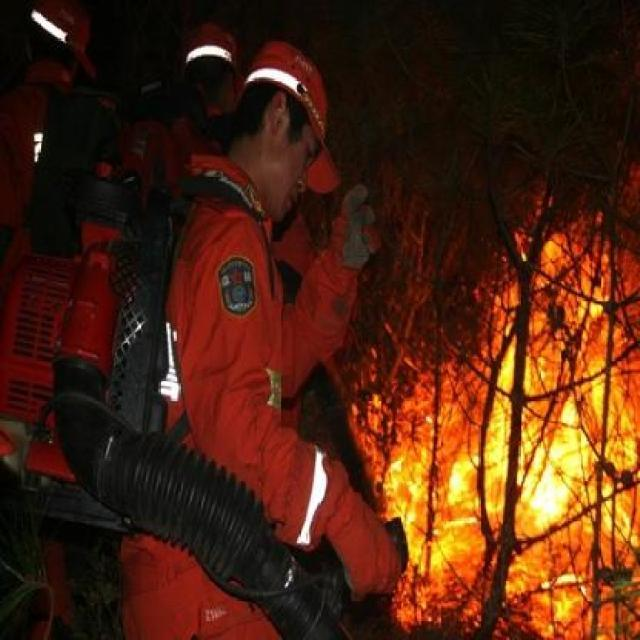Fire: (377, 248, 636, 640)
